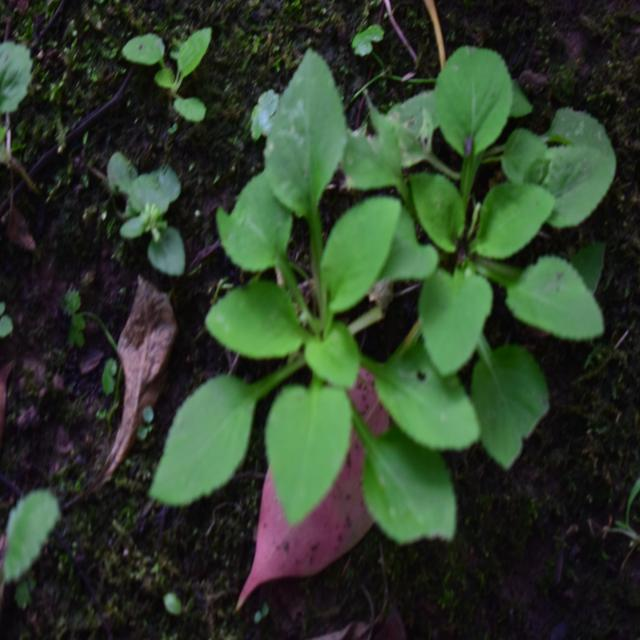Viola: (190, 92, 503, 548), (372, 37, 590, 443)
